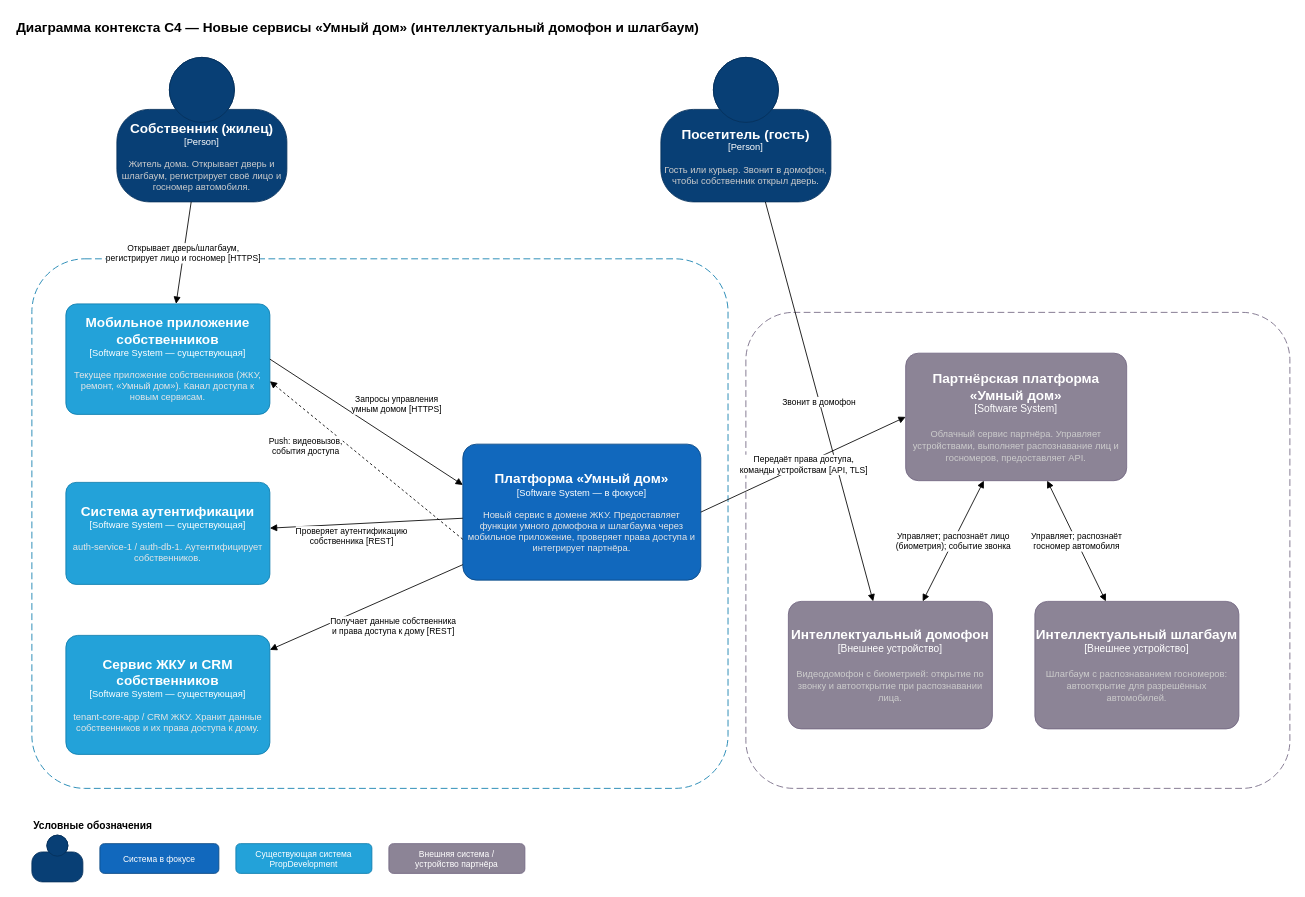
Some shapes in this 1305 by 897 pixel diagram are drawn without their labels. Each missing label, with the box of its shape:
PropDevelopment [Граница предприятия]: (31, 258, 728, 788)
Партнёр «Умный дом» [Граница внешнего партнёра]: (745, 312, 1290, 788)
Персона: (31, 834, 83, 882)
